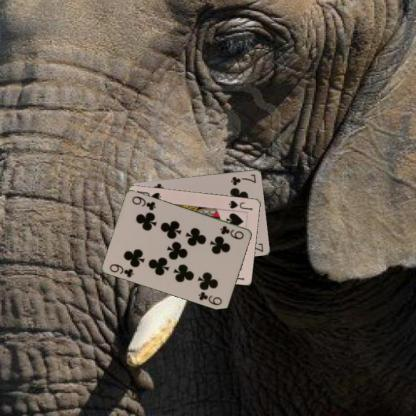7c: (228, 172, 257, 186)
9c: (107, 261, 135, 279), (218, 223, 245, 240)
Js: (226, 198, 254, 212)
